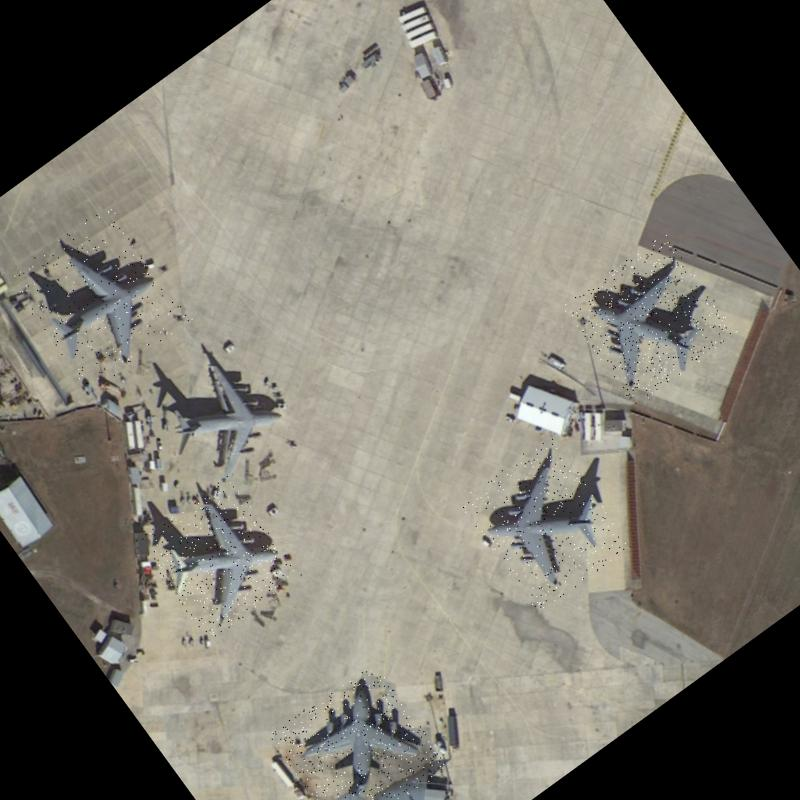A3: (5, 203, 192, 393), (457, 433, 632, 613), (562, 232, 738, 408), (132, 330, 302, 498), (135, 473, 302, 642), (267, 659, 449, 800)
